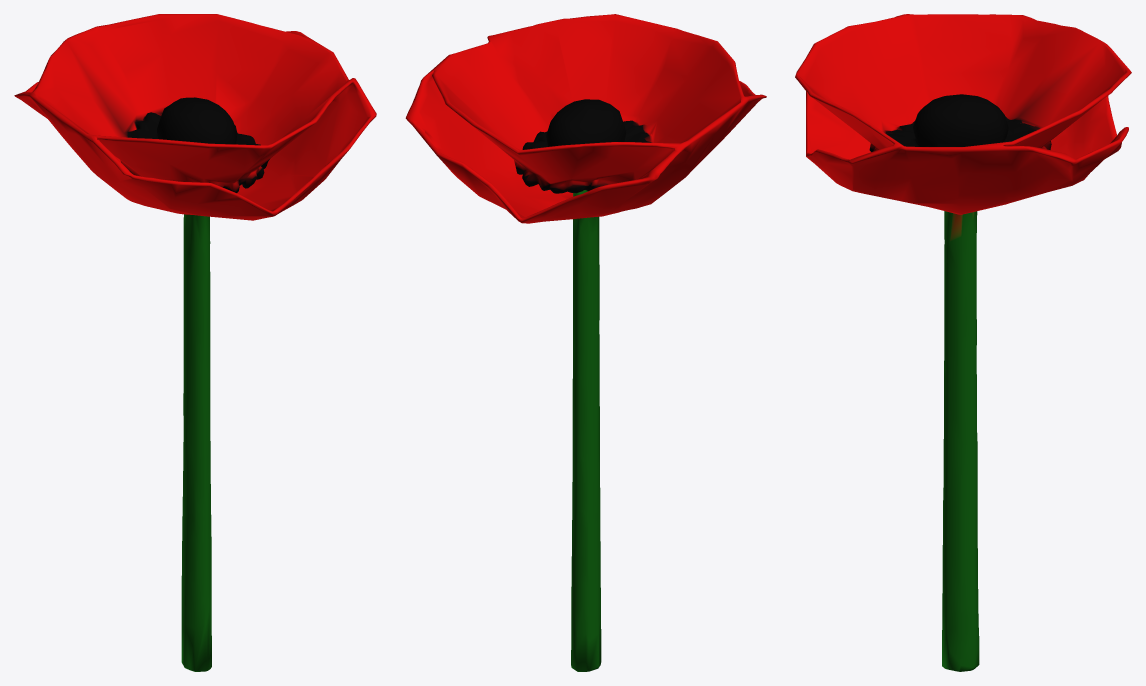
The model's file is gen3d-poppy-flower-lod0.glb.
3 renders of one model, left to right at view 1: azimuth 30°, elevation 25°; view 2: azimuth 150°, elevation 25°; view 3: azimuth 270°, elevation 25°, orthographic.
Parts seen in each view (by area): view 1: part_0; view 2: part_0; view 3: part_0.
Boxes of the visible parts, x1,y1,x2,y2 form: part_0: (14, 14, 376, 671); part_0: (405, 14, 766, 671); part_0: (795, 14, 1131, 671).
Bounding box in the file's own units: 0.4864 × 0.9989 × 0.5125.
